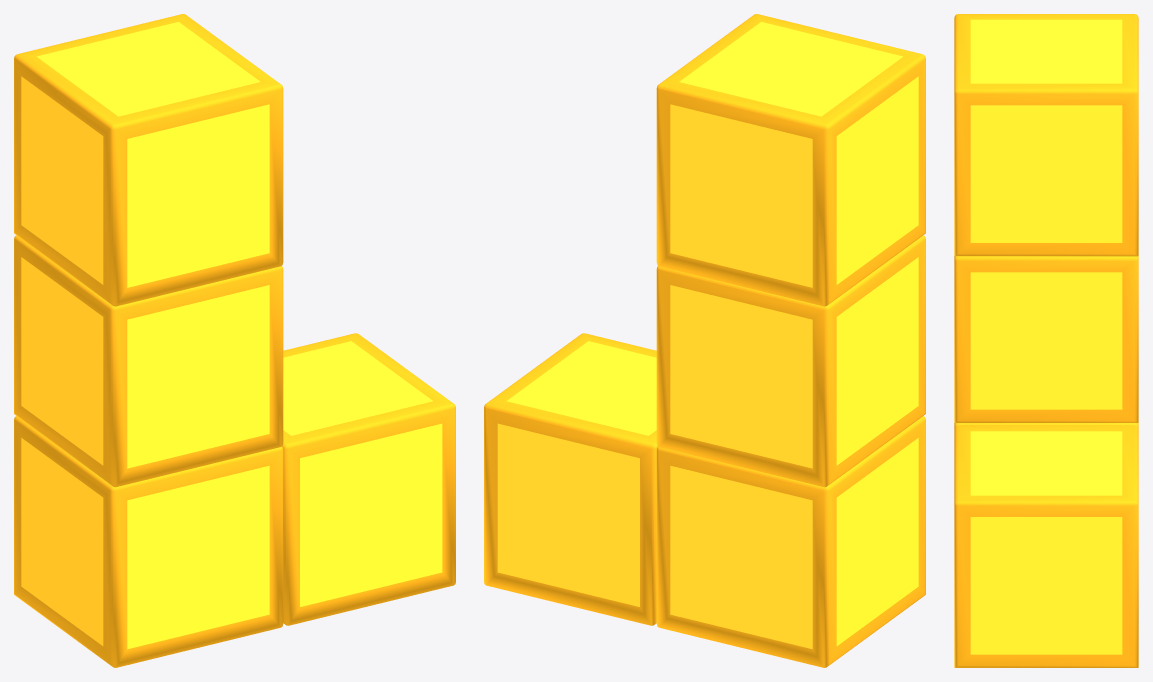
Rendered from L_block.glb.
The picture shows the model from 3 angles, left to right: view 1: azimuth 30°, elevation 25°; view 2: azimuth 150°, elevation 25°; view 3: azimuth 270°, elevation 25°; orthographic projection. The views are drawn at different scales.
Parts seen in each view (by area): view 1: FuwaSuisei_Tetris05_FuwaSuiseiItems_0; view 2: FuwaSuisei_Tetris05_FuwaSuiseiItems_0; view 3: FuwaSuisei_Tetris05_FuwaSuiseiItems_0.
Boxes of the visible parts, x1,y1,x2,y2 form: FuwaSuisei_Tetris05_FuwaSuiseiItems_0: [14, 14, 455, 667]; FuwaSuisei_Tetris05_FuwaSuiseiItems_0: [484, 14, 925, 667]; FuwaSuisei_Tetris05_FuwaSuiseiItems_0: [954, 14, 1138, 667].
Bounding box in the file's own units: 0.8312 × 1.25 × 0.4155.
Materials: 1 (1 with a texture image).
